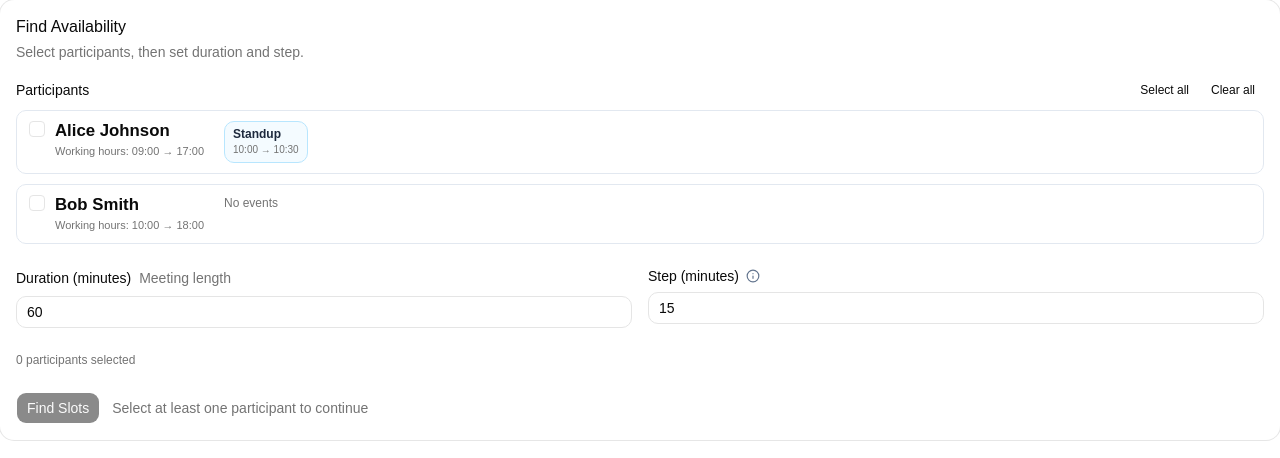
Test: AvailabilityForm › supports select all and clear all participant actions
Click the button "Select all" at [1165, 90], box [1131,78,1198,102]
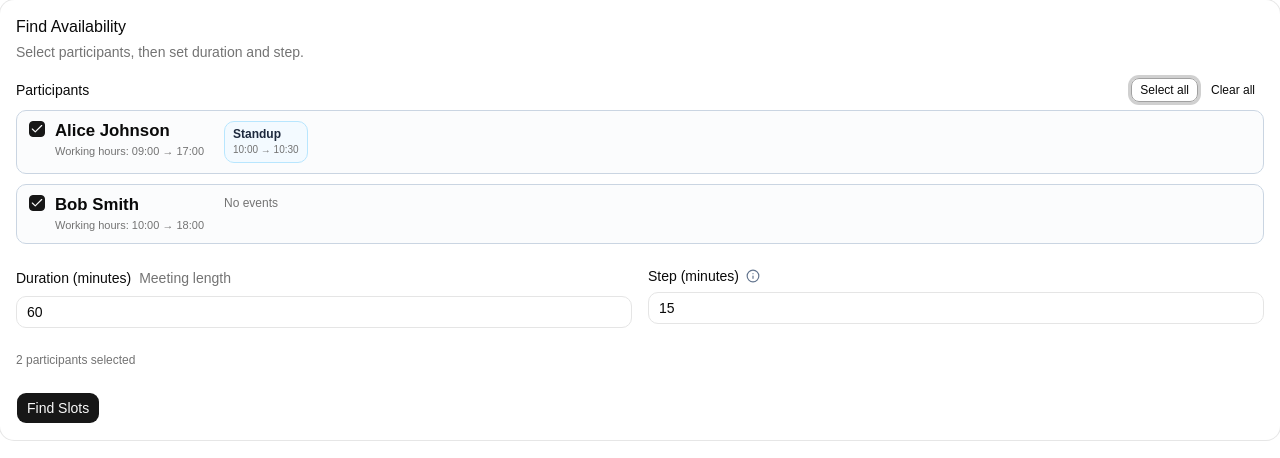
Expected: the text "2 participants selected" is shown, [16,353,135,367]
Click the button "Clear all" at [1233, 90], box [1202,78,1264,102]
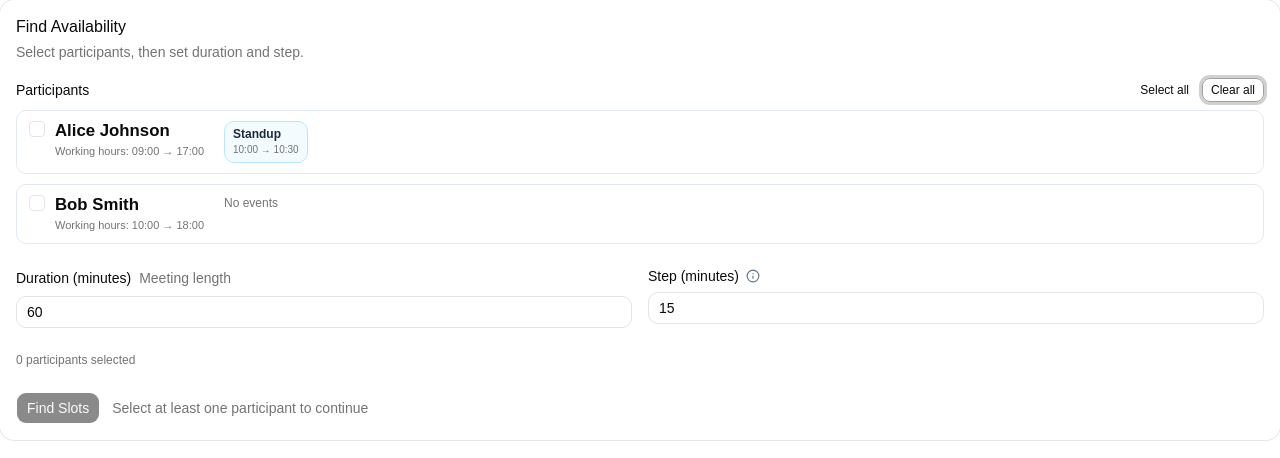
Expected: the text "0 participants selected" is shown, [16,353,135,367]
